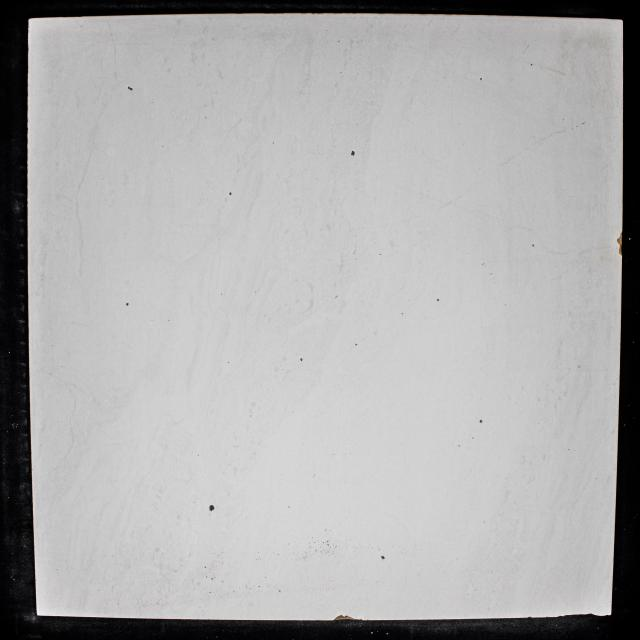edge-chipping: (334, 614, 360, 620), (617, 230, 623, 256)
hole: (208, 504, 216, 512), (128, 85, 134, 92), (380, 555, 386, 560), (350, 151, 356, 156), (125, 302, 130, 307), (436, 298, 440, 302), (479, 419, 483, 423), (300, 357, 303, 362), (229, 192, 232, 196), (480, 76, 482, 80), (355, 343, 357, 346), (210, 578, 213, 580), (258, 585, 260, 588), (279, 590, 281, 592)
line: (499, 130, 562, 166), (442, 190, 467, 208)
